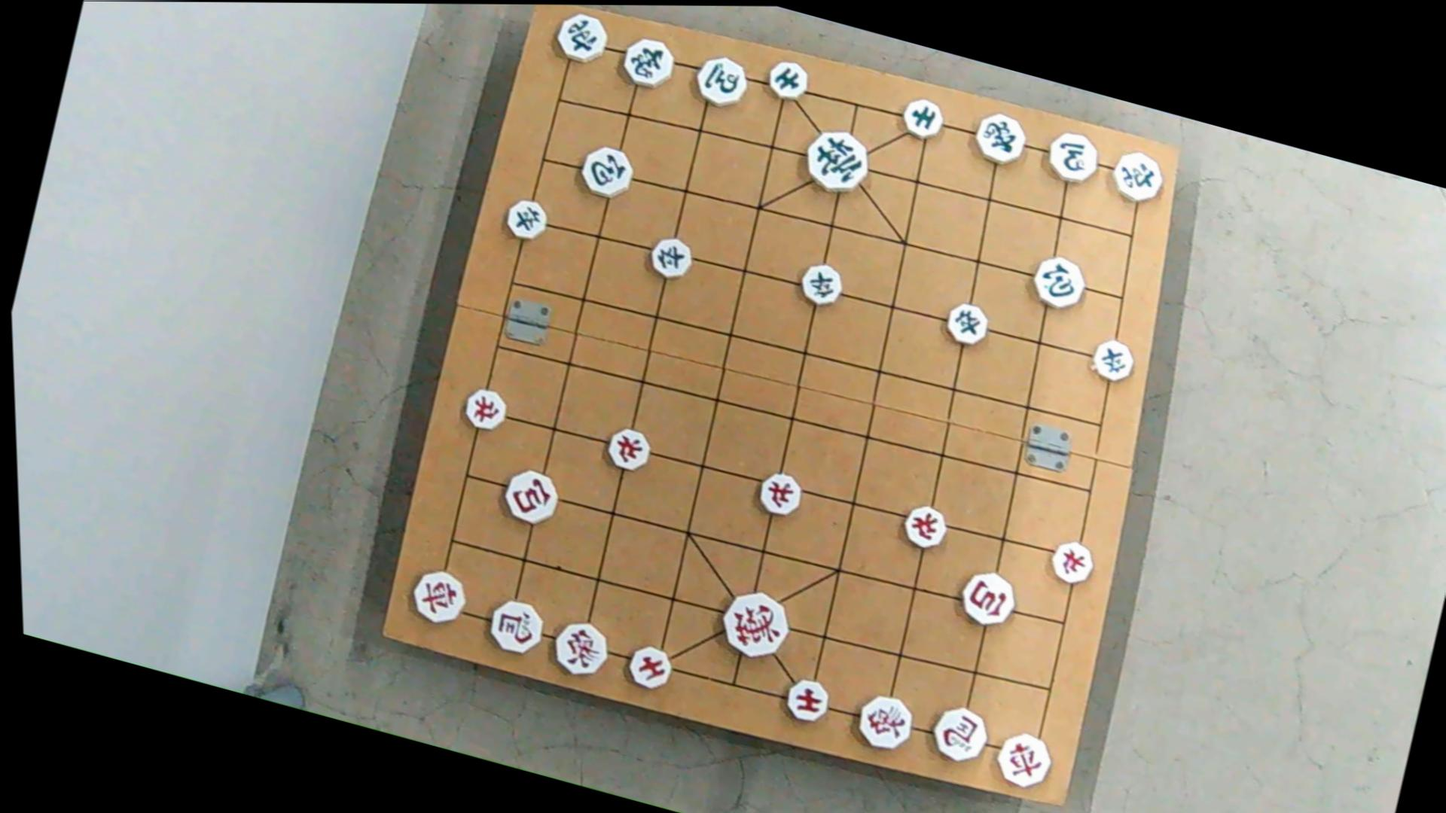cha_green: (1106, 145, 1170, 209), (551, 11, 610, 65)
cha_red: (990, 727, 1057, 792), (406, 567, 471, 627)
jol_green: (943, 303, 995, 352), (1085, 337, 1138, 385), (795, 262, 847, 310), (645, 235, 697, 282), (502, 196, 551, 242)
jol_red: (1043, 538, 1097, 587), (755, 469, 807, 519), (603, 425, 657, 473), (901, 503, 953, 552), (460, 385, 511, 432)
ma_green: (1042, 130, 1106, 189), (691, 53, 752, 114)
ma_red: (484, 595, 551, 661), (927, 704, 993, 767)
po_green: (575, 140, 637, 204), (1029, 254, 1092, 314)
po_red: (955, 569, 1021, 631), (501, 466, 566, 528)
sa_green: (895, 96, 946, 142), (764, 60, 813, 105)
sa_red: (778, 671, 838, 727), (622, 640, 676, 692)
sang_green: (616, 33, 679, 93), (968, 108, 1031, 166)
sang_red: (849, 689, 920, 755), (548, 617, 615, 679)
wang_green: (795, 125, 875, 196)
wang_red: (713, 589, 794, 664)
